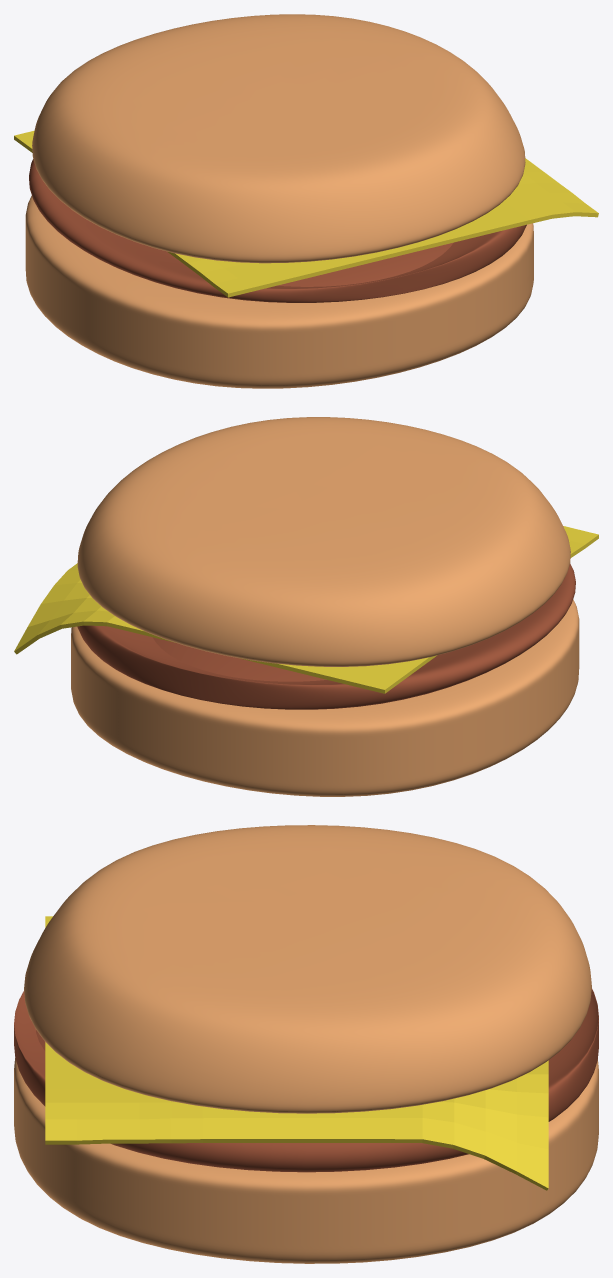
File: hamburger.glb
The picture shows the model from 3 angles, top to bottom: view 1: azimuth 30°, elevation 25°; view 2: azimuth 150°, elevation 25°; view 3: azimuth 270°, elevation 25°; orthographic projection. The views are drawn at different scales.
Parts seen in each view (by area): view 1: Cube.002, Cube, Cube.001, Plane; view 2: Cube.002, Cube, Cube.001, Plane; view 3: Cube.002, Cube, Plane, Cube.001.
Part boxes in pixels (<box>): Cube.002: <box>32,14,525,263</box>; Cube: <box>25,195,533,388</box>; Cube.001: <box>29,159,526,302</box>; Plane: <box>14,130,598,297</box>; Cube.002: <box>77,417,570,666</box>; Cube: <box>71,599,579,796</box>; Cube.001: <box>77,563,575,709</box>; Plane: <box>14,526,598,693</box>; Cube.002: <box>24,825,591,1113</box>; Cube: <box>14,1058,598,1263</box>; Plane: <box>45,916,548,1190</box>; Cube.001: <box>14,988,598,1172</box>.
Bounding box in the file's own units: 9.18 × 4.21 × 9.18.
